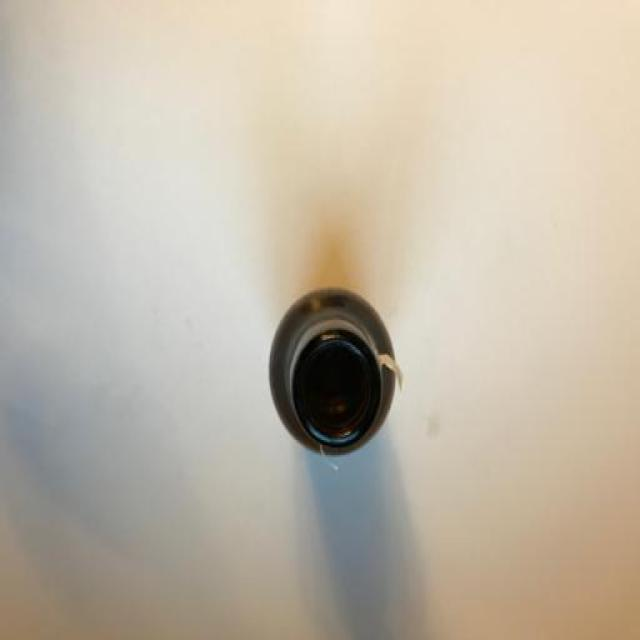glass: (268, 294, 400, 462)
